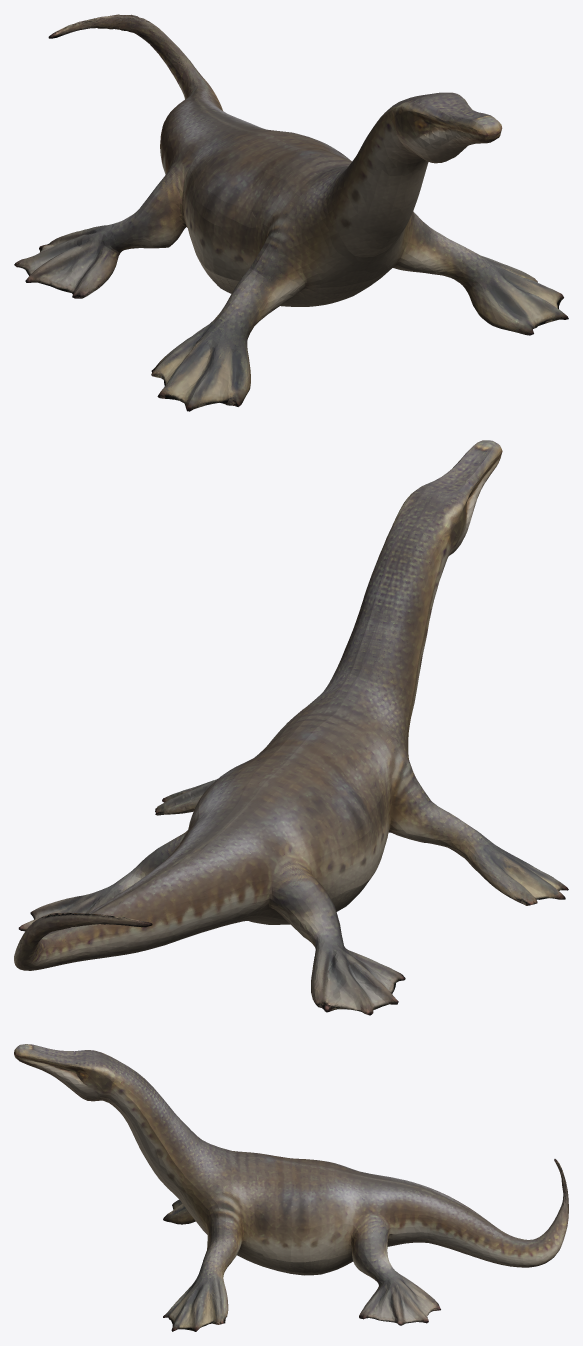
3 renders of one model, top to bottom at view 1: azimuth 30°, elevation 25°; view 2: azimuth 150°, elevation 25°; view 3: azimuth 270°, elevation 25°, orthographic. The views are drawn at different scales.
Visible parts, largest first — view 1: world; view 2: world; view 3: world.
Boxes of the visible parts, box(x1,y1,x2,y2) form: world: box(14, 14, 568, 411); world: box(14, 440, 568, 1015); world: box(14, 1044, 568, 1331).
Size of the model in its own units: 0.5777 by 0.4436 by 1.
Materials: 1 (1 with a texture image).
